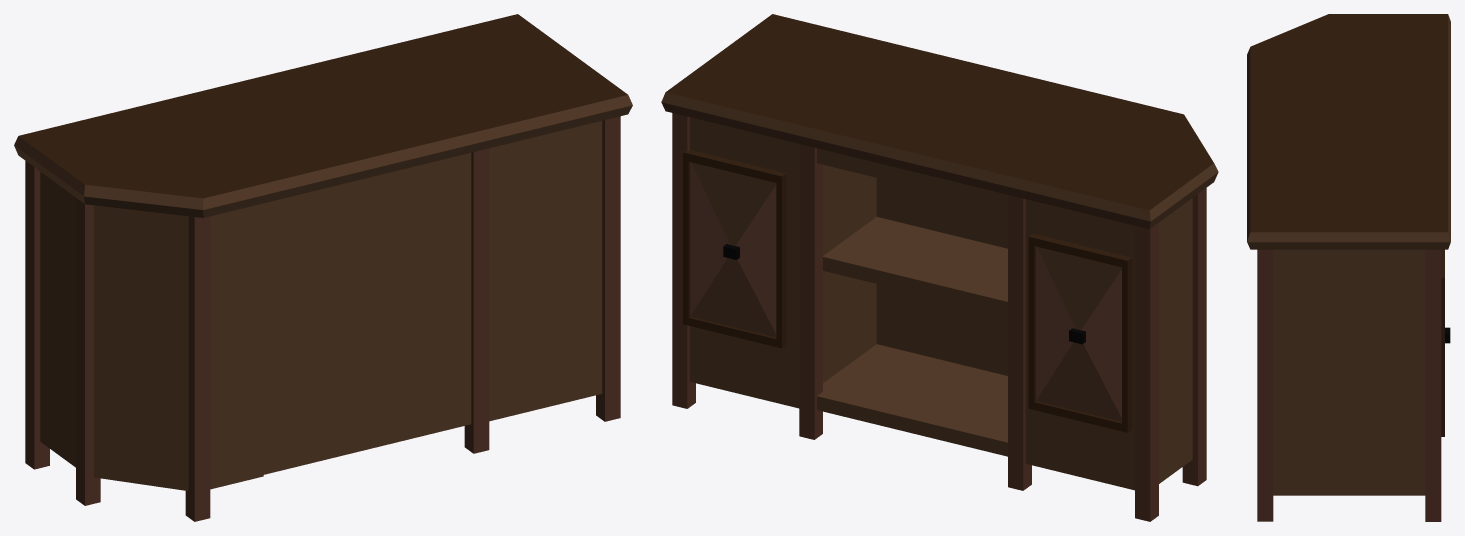
Rendered from Furnit Bar 1 2M.glb.
3 renders of one model, left to right at view 1: azimuth 30°, elevation 25°; view 2: azimuth 150°, elevation 25°; view 3: azimuth 270°, elevation 25°, orthographic. The views are drawn at different scales.
Parts seen in each view (by area): view 1: Furnit Bar 1 2M; view 2: Furnit Bar 1 2M; view 3: Furnit Bar 1 2M.
Boxes of the visible parts, x1=… form: Furnit Bar 1 2M: x1=14, y1=14, x2=632, y2=521; Furnit Bar 1 2M: x1=661, y1=14, x2=1218, y2=521; Furnit Bar 1 2M: x1=1247, y1=14, x2=1450, y2=521.
Size of what is drawn, in the model's own units: 2 by 1.23 by 0.7789.
1 material, 1 textured.
